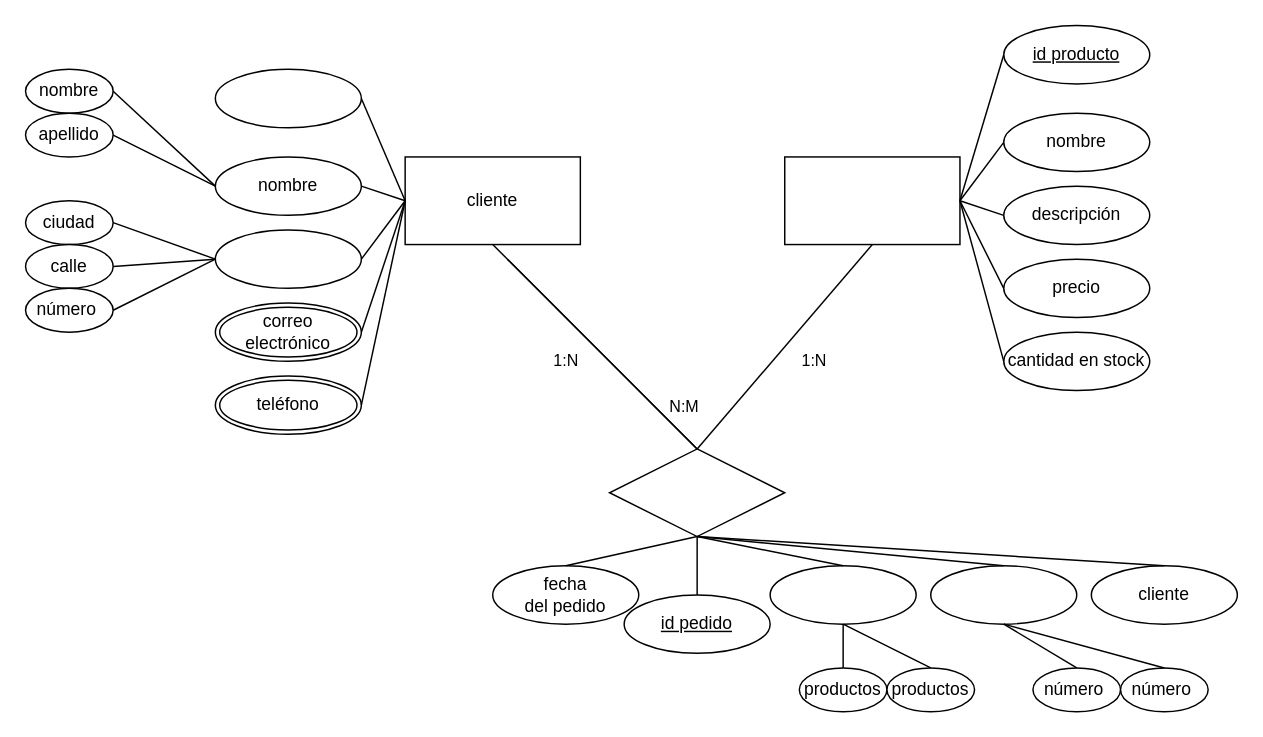
The diagram is 1263 pixels wide and 737 high, and some of its shapes have lost their labels. The shapes that lost their labels are listed below. From the top down, each one's box as (x1, y1, x2, y2) in pixels, then its label:
(214, 68, 361, 128): id cliente
(783, 155, 960, 245): producto
(214, 228, 361, 288): dirección
(608, 447, 785, 537): pedido
(769, 564, 916, 624): productos comprados
(929, 564, 1077, 624): cantidad de cada producto
